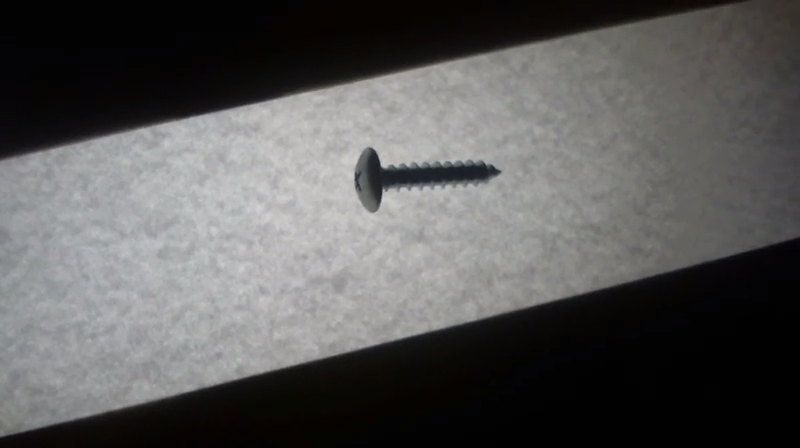S003: (349, 143, 506, 214)
